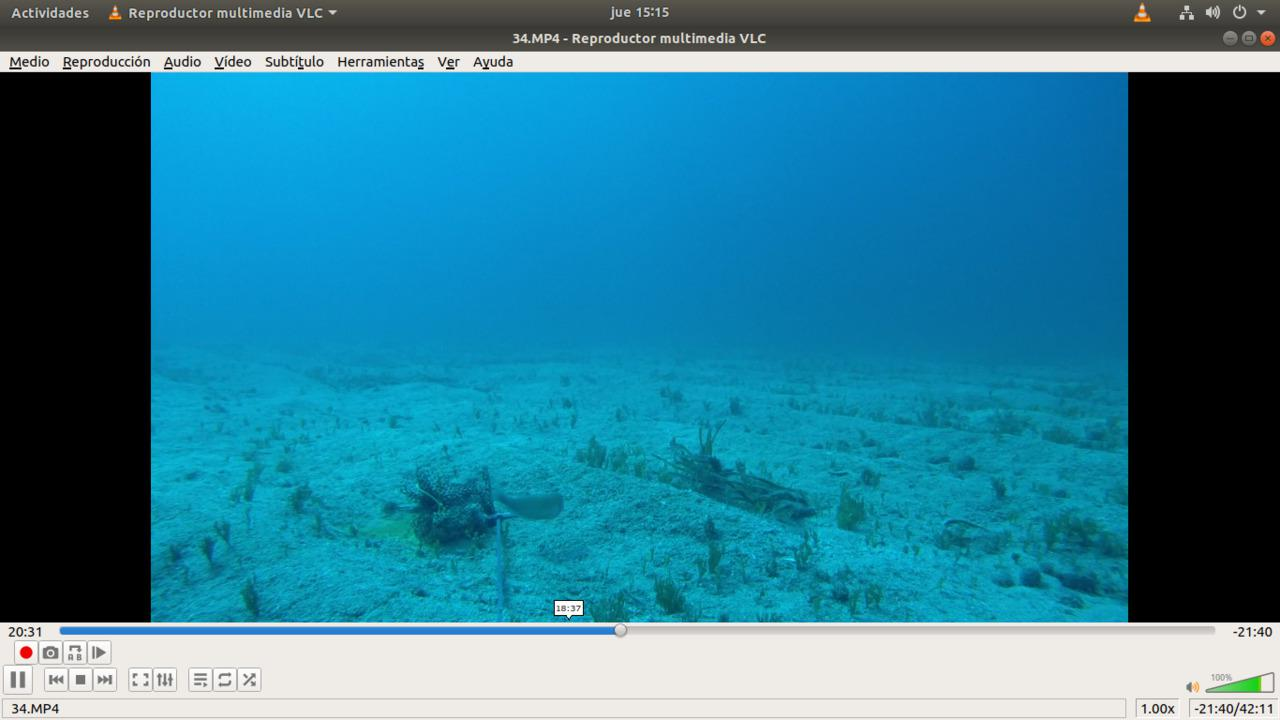raor: (482, 482, 567, 526)
